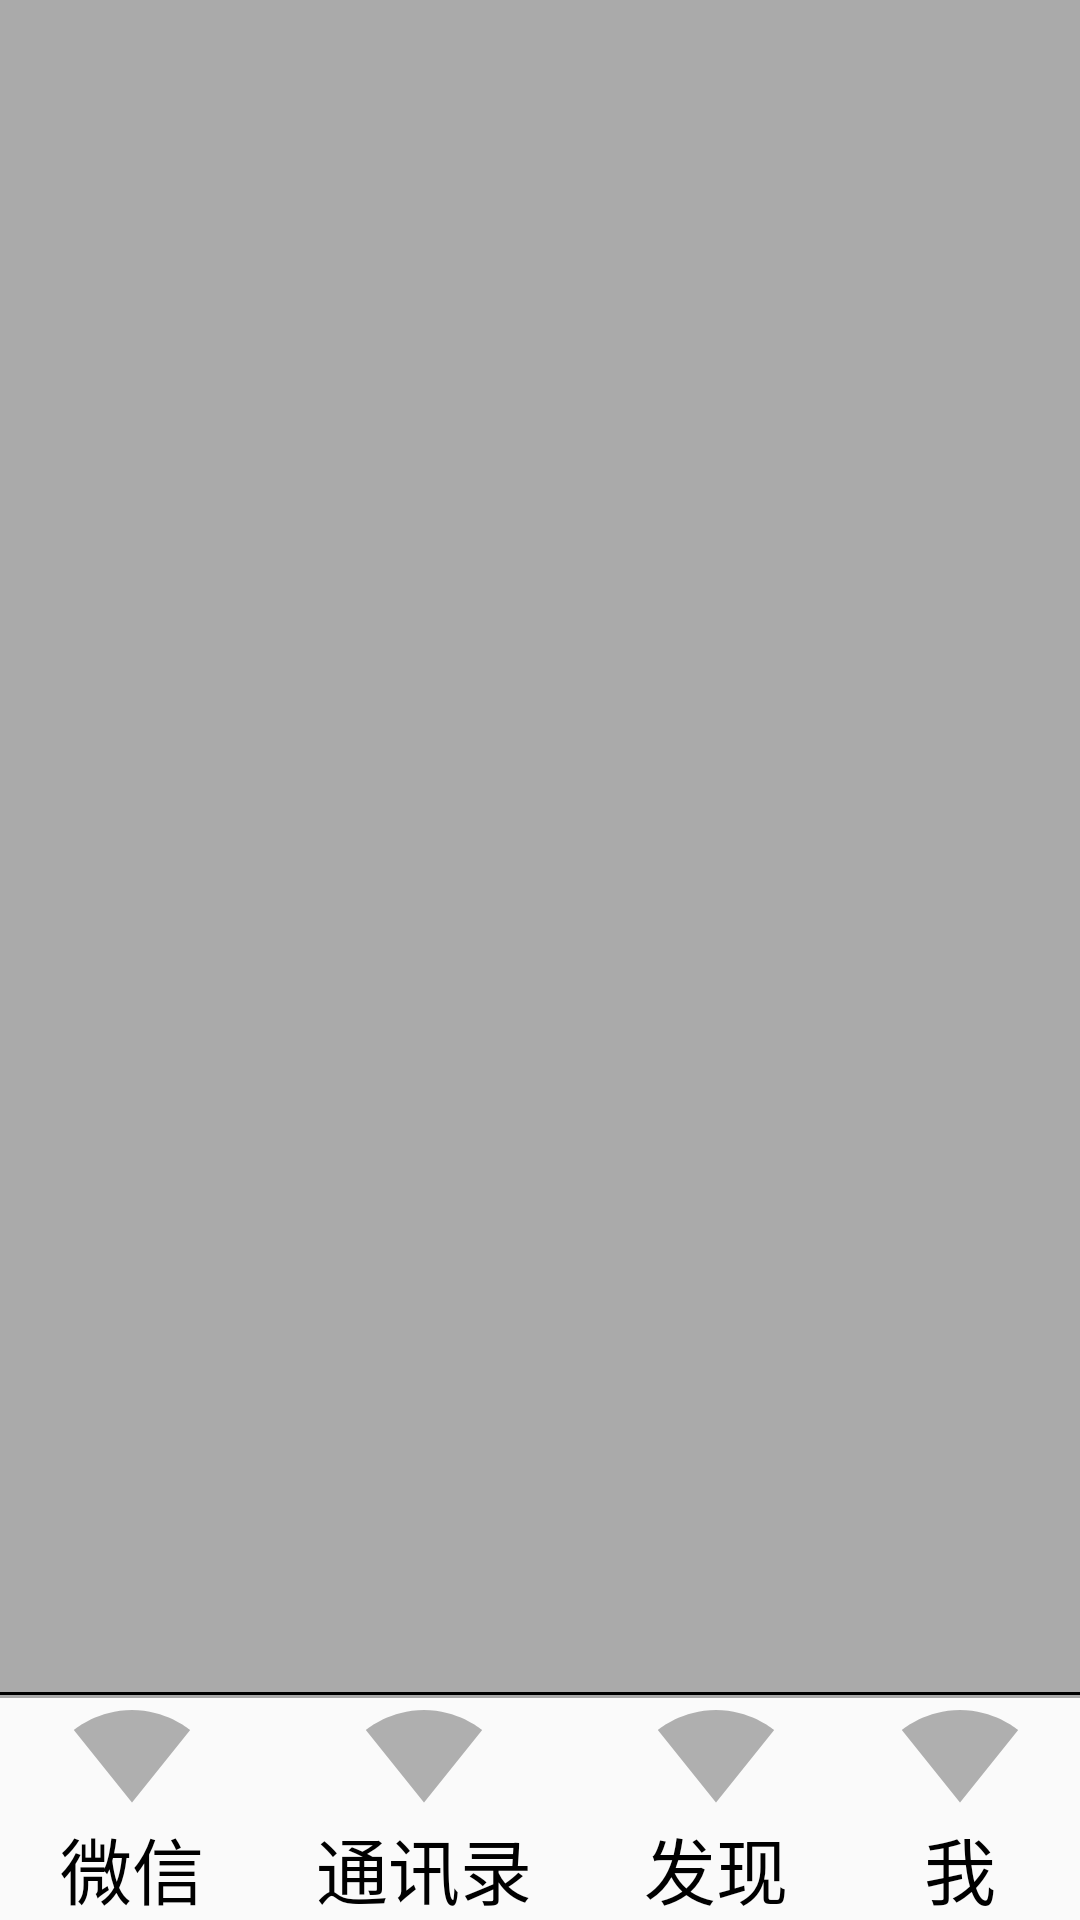

Where icons sit on this 1080 x 1920 app screen, as (x1, y1, x2, y2):
signal wifi: (74, 1710, 190, 1802), (366, 1710, 482, 1802), (658, 1710, 774, 1802), (902, 1710, 1018, 1802)
